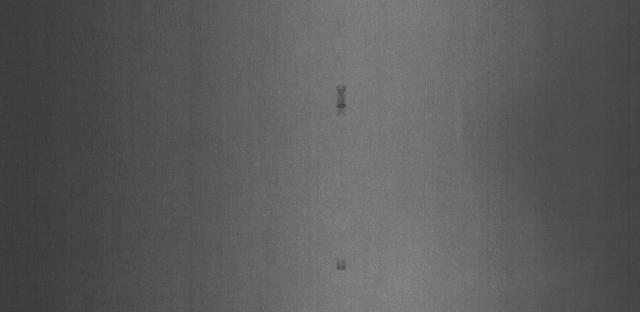oil_spot: (331, 82, 359, 127), (326, 251, 351, 275)
